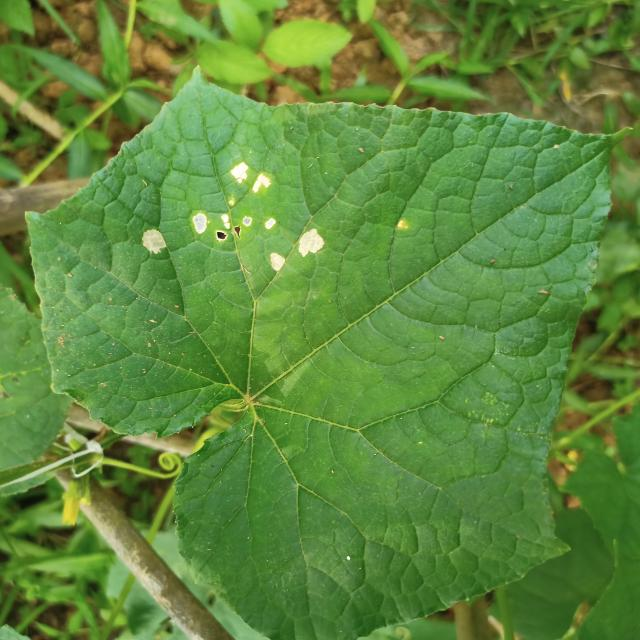disease_cucumber: (144, 162, 326, 271)
